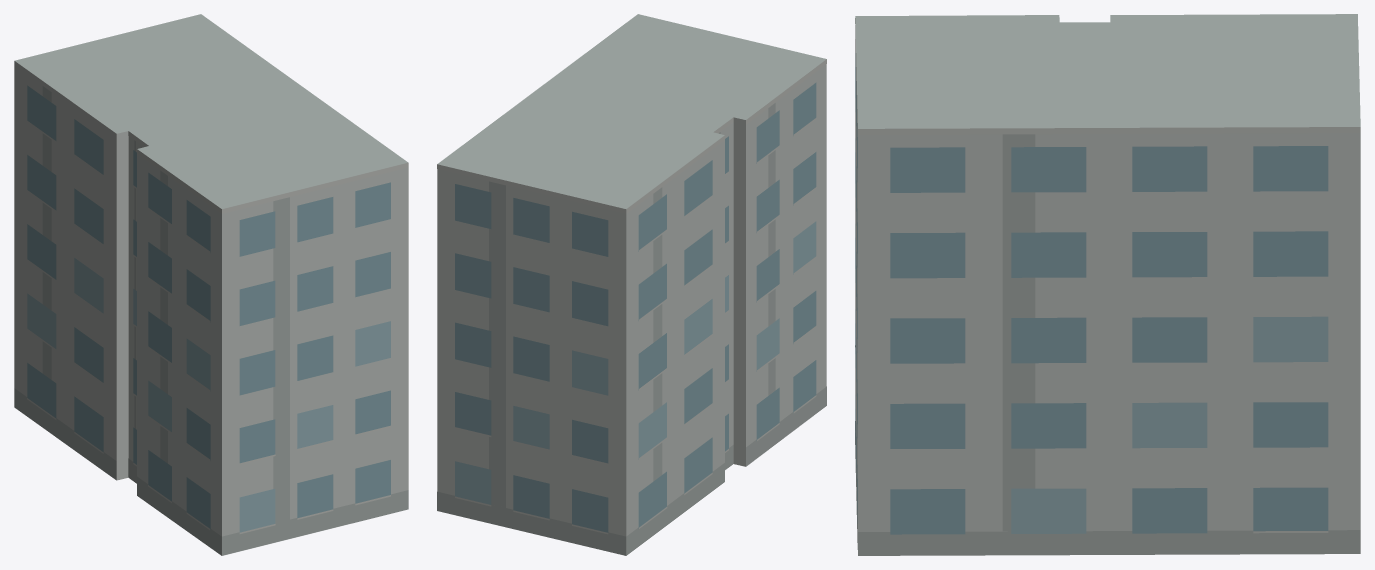
File: survey-upis-32606571.glb
3 views of the same model, side by side, from view 1: azimuth 30°, elevation 25°; view 2: azimuth 150°, elevation 25°; view 3: azimuth 270°, elevation 25° (orthographic). The views are drawn at different scales.
Visible parts, largest first — view 1: survey-upis-32606571.tmp; view 2: survey-upis-32606571.tmp; view 3: survey-upis-32606571.tmp.
Part boxes in pixels (x1,y1,x2,y2): survey-upis-32606571.tmp: (14,14,408,555); survey-upis-32606571.tmp: (437,14,826,555); survey-upis-32606571.tmp: (855,14,1360,555).
Size of the model in its own units: 9.99 by 17.3 by 18.57.
